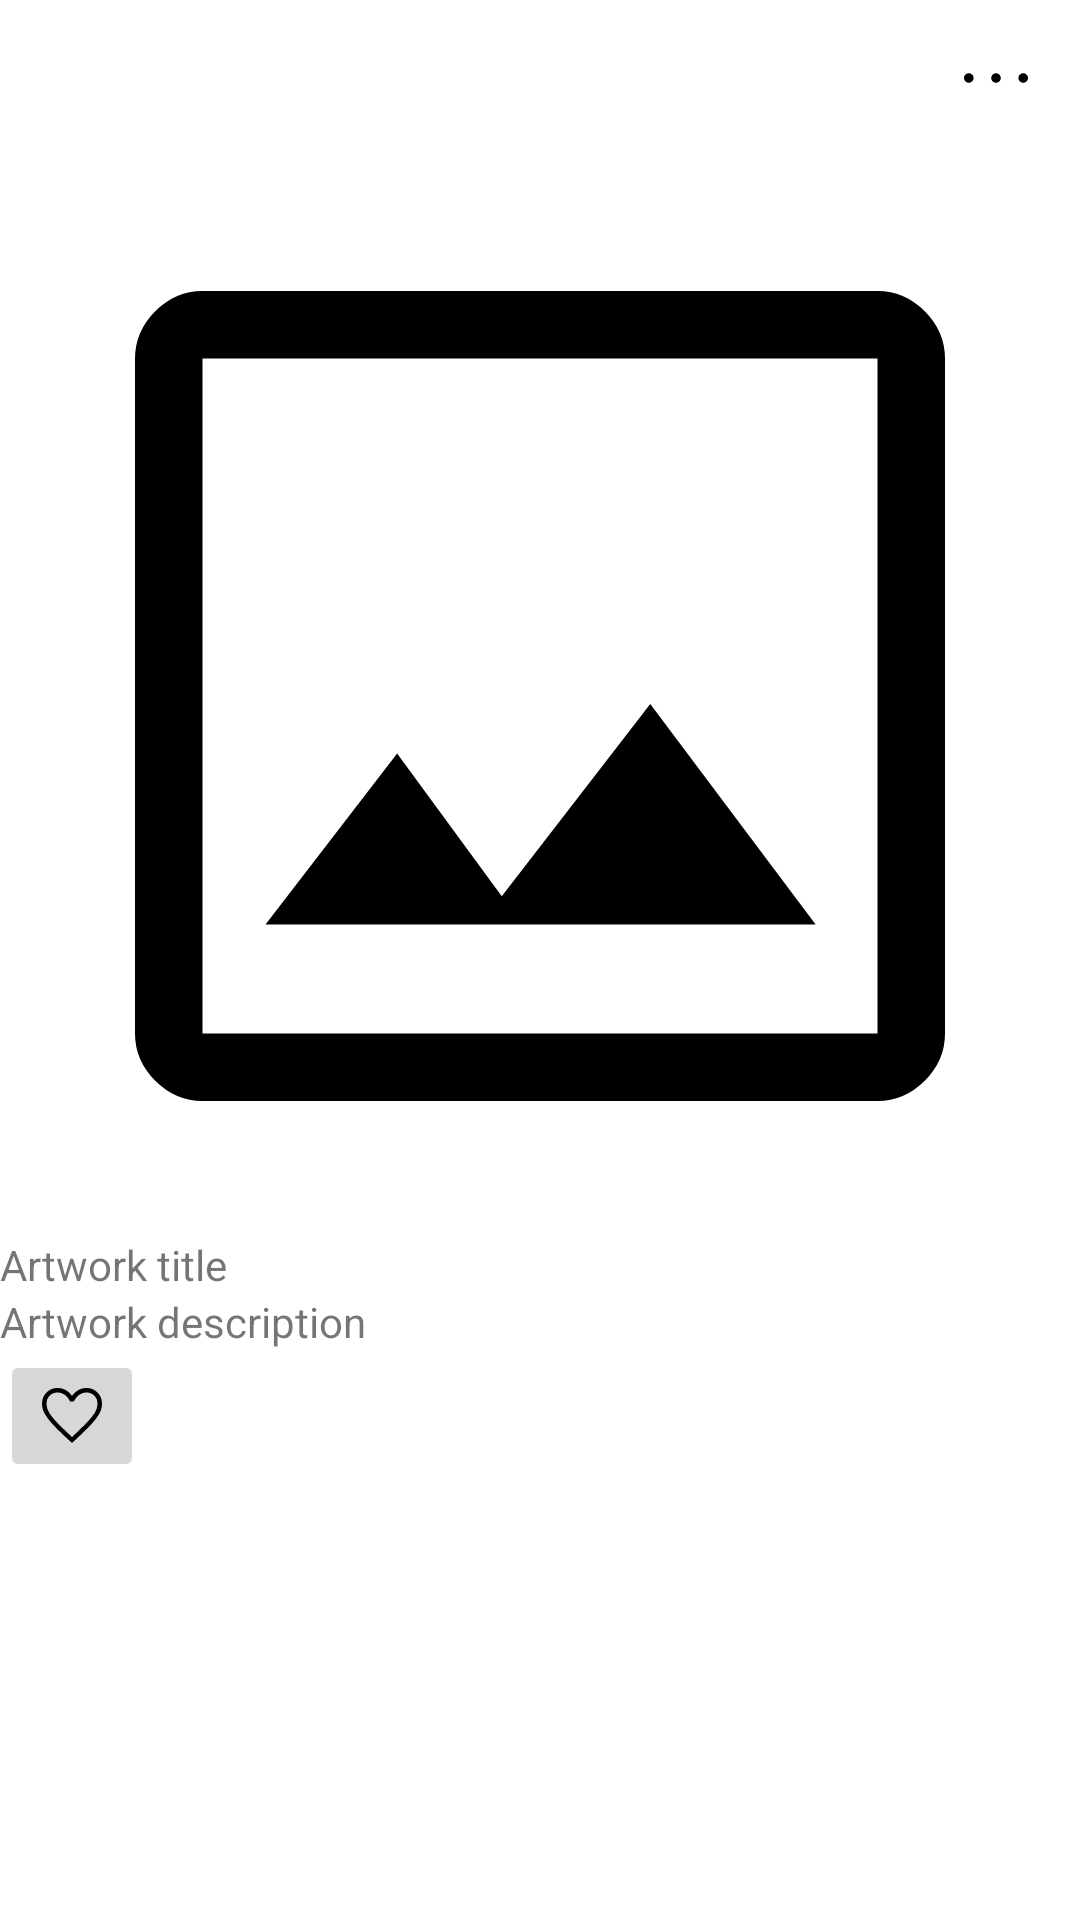

Point at icon controls on the screen. Image size 1080 × 1920, points as point (x, y).
favorite: point (72, 1416)
